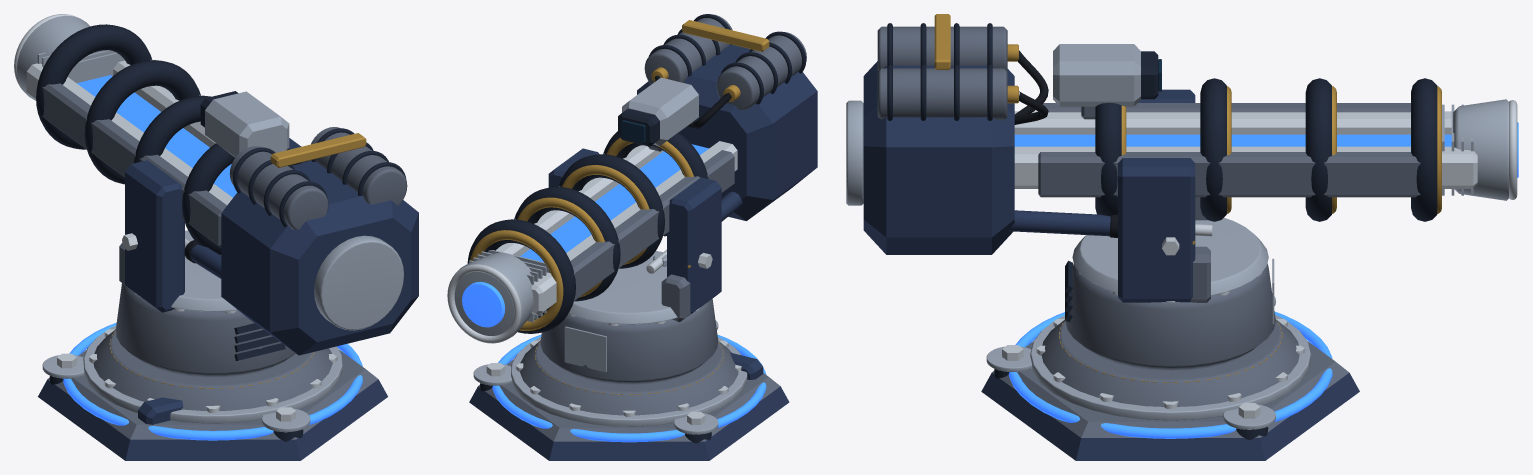
The model's file is tower_lance_chassis.glb.
The picture shows the model from 3 angles, left to right: view 1: azimuth 30°, elevation 25°; view 2: azimuth 150°, elevation 25°; view 3: azimuth 270°, elevation 25°; orthographic projection. The views are drawn at different scales.
Parts seen in each view (by area): view 1: lance_breech, lance_yaw_drum, lance_collar, lance_baseplate, lance_trunnion_r, lance_breech_cap, lance_rail_shroud_r, lance_baseplate_bevel, lance_coil3, lance_optic, lance_coil2, lance_capacitor_r (+18 smaller); view 2: lance_breech, lance_yaw_drum, lance_collar, lance_baseplate, lance_trunnion_r, lance_rail_shroud_r, lance_yaw_cap, lance_baseplate_bevel, lance_flange, lance_muzzle_shroud, lance_capacitor_r, lance_seam (+27 smaller); view 3: lance_breech, lance_yaw_drum, lance_rail_shroud_l, lance_trunnion_l, lance_collar, lance_baseplate, lance_rail_r, lance_yaw_cap, lance_capacitor_l, lance_optic, lance_baseplate_bevel, lance_flange (+19 smaller).
Part boxes in pixels (x1,y1,x2,y2): lance_breech: (221,161,418,355); lance_yaw_drum: (116,283,295,377); lance_collar: (93,329,332,410); lance_baseplate: (38,379,387,460); lance_trunnion_r: (125,160,184,312); lance_breech_cap: (314,235,403,330); lance_rail_shroud_r: (42,83,226,247); lance_baseplate_bevel: (48,349,378,439); lance_coil3: (36,24,152,149); lance_optic: (205,91,289,157); lance_coil2: (84,60,200,184); lance_capacitor_r: (229,146,328,229); lance_breech: (637,44,817,220); lance_yaw_drum: (540,299,717,384); lance_collar: (519,340,738,415); lance_baseplate: (469,386,789,460); lance_trunnion_r: (667,177,721,315); lance_rail_shroud_r: (570,150,734,300); lance_yaw_cap: (569,251,677,324); lance_baseplate_bevel: (478,359,780,441); lance_flange: (511,337,747,426); lance_muzzle_shroud: (454,252,534,338); lance_capacitor_r: (716,32,806,110); lance_seam: (492,334,766,442); lance_breech: (863,61,1014,254); lance_yaw_drum: (1065,263,1275,370); lance_rail_shroud_l: (1038,152,1420,197); lance_trunnion_l: (1118,158,1195,302); lance_collar: (1041,319,1299,406); lance_baseplate: (981,373,1359,460); lance_rail_r: (1014,111,1451,134); lance_yaw_cap: (1072,217,1268,295); lance_capacitor_l: (877,68,1007,120); lance_optic: (1053,44,1140,106); lance_baseplate_bevel: (992,341,1349,437); lance_flange: (1030,314,1310,420).
Bounding box in the file's own units: 1.87 × 2.23 × 3.84.
